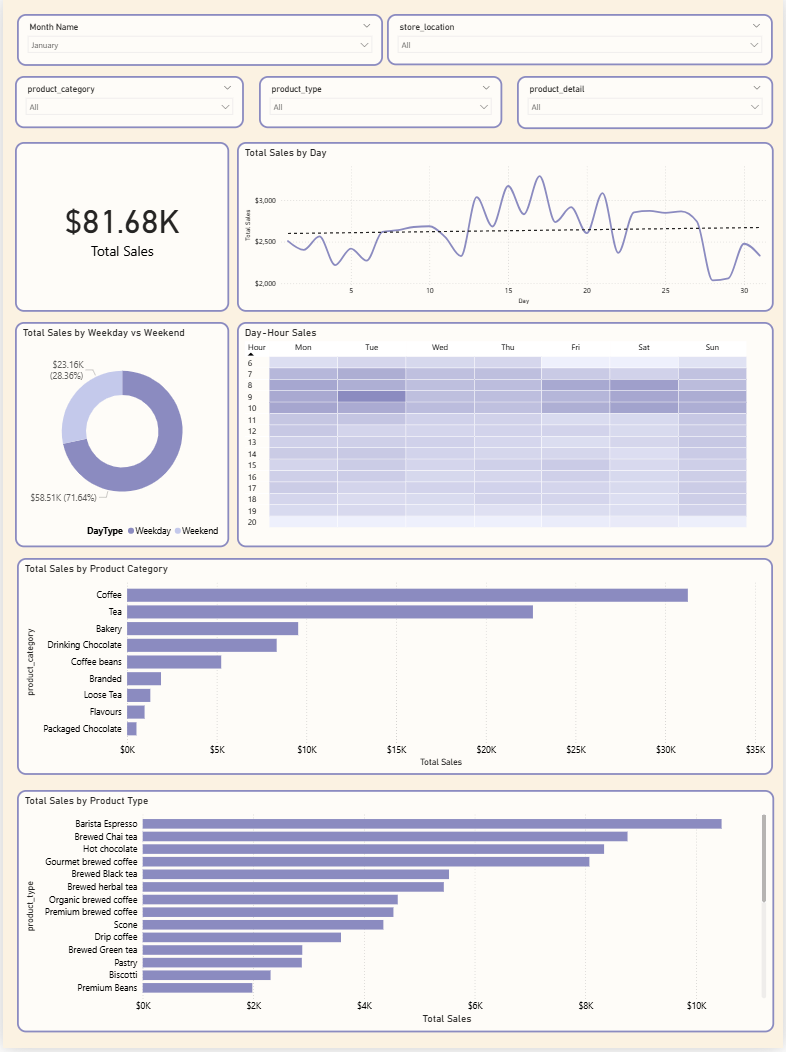

The page's visual inventory and layout, read from the dashboard file:
{"tool":"powerbi","page":{"name":"Sales Monthwise View","canvas":[1300,1750],"ordinal":1},"visuals":[{"type":"card","fields":{"Values":["Measure Table.Total Sales"]},"box":[20,241.4,357.1,282.9],"z":0},{"type":"slicer","fields":{"Values":["Coffee Shop Sales.store_location"]},"box":[640,27.1,642.9,85.7],"z":1000},{"type":"slicer","fields":{"Values":["Date.Month Name"]},"box":[21.7,26.7,610,86.7],"z":2000},{"type":"lineChart","fields":{"Category":["Date.Date.Variation.Date Hierarchy.Day"],"Y":["Measure Table.Total Sales"]},"box":[390,241.4,894.3,282.9],"z":3000},{"type":"pivotTable","title":"Day-Hour Sales","fields":{"Rows":["Coffee Shop Sales.Hour"],"Values":["Measure Table.Total Sales"],"Columns":["Date.DayShort"]},"box":[390,541.4,894.3,375.7],"z":4000},{"type":"clusteredBarChart","title":"Total Sales by Product Type","fields":{"Category":["Coffee Shop Sales.product_type"],"Y":["Measure Table.Total Sales"]},"box":[22,1320,1262,404],"z":5000},{"type":"barChart","title":"Total Sales by Product Category","fields":{"Y":["Measure Table.Total Sales"],"Category":["Coffee Shop Sales.product_category"]},"box":[23.3,933.3,1260,361.7],"z":7000},{"type":"slicer","fields":{"Values":["Coffee Shop Sales.product_category"]},"box":[20,130,381.4,87.1],"z":8000},{"type":"slicer","fields":{"Values":["Coffee Shop Sales.product_type"]},"box":[427.1,131.4,405.7,87.1],"z":9000},{"type":"slicer","fields":{"Values":["Coffee Shop Sales.product_detail"]},"box":[855.7,130,427.1,88.6],"z":10000},{"type":"donutChart","title":"Total Sales by Weekday vs Weekend","fields":{"Y":["Measure Table.Total Sales"],"Category":["Date.DayType"]},"box":[20,541.4,357.1,375.7],"z":11000}]}

Visuals, with their boxes in screenshot pixels (x1, y1, x2, y2), scaled from the page's 1300x1750 canvas onto the 786x1052 screenshot:
card - Measure Table.Total Sales: [left=12, top=145, right=228, bottom=315]
slicer - Coffee Shop Sales.store_location: [left=387, top=16, right=776, bottom=68]
slicer - Date.Month Name: [left=13, top=16, right=382, bottom=68]
lineChart - Date.Date.Variation.Date Hierarchy.Day x Measure Table.Total Sales: [left=236, top=145, right=777, bottom=315]
"Day-Hour Sales" pivotTable: [left=236, top=325, right=777, bottom=551]
"Total Sales by Product Type" clusteredBarChart: [left=13, top=794, right=776, bottom=1036]
"Total Sales by Product Category" barChart: [left=14, top=561, right=776, bottom=778]
slicer - Coffee Shop Sales.product_category: [left=12, top=78, right=243, bottom=131]
slicer - Coffee Shop Sales.product_type: [left=258, top=79, right=504, bottom=131]
slicer - Coffee Shop Sales.product_detail: [left=517, top=78, right=776, bottom=131]
"Total Sales by Weekday vs Weekend" donutChart: [left=12, top=325, right=228, bottom=551]
